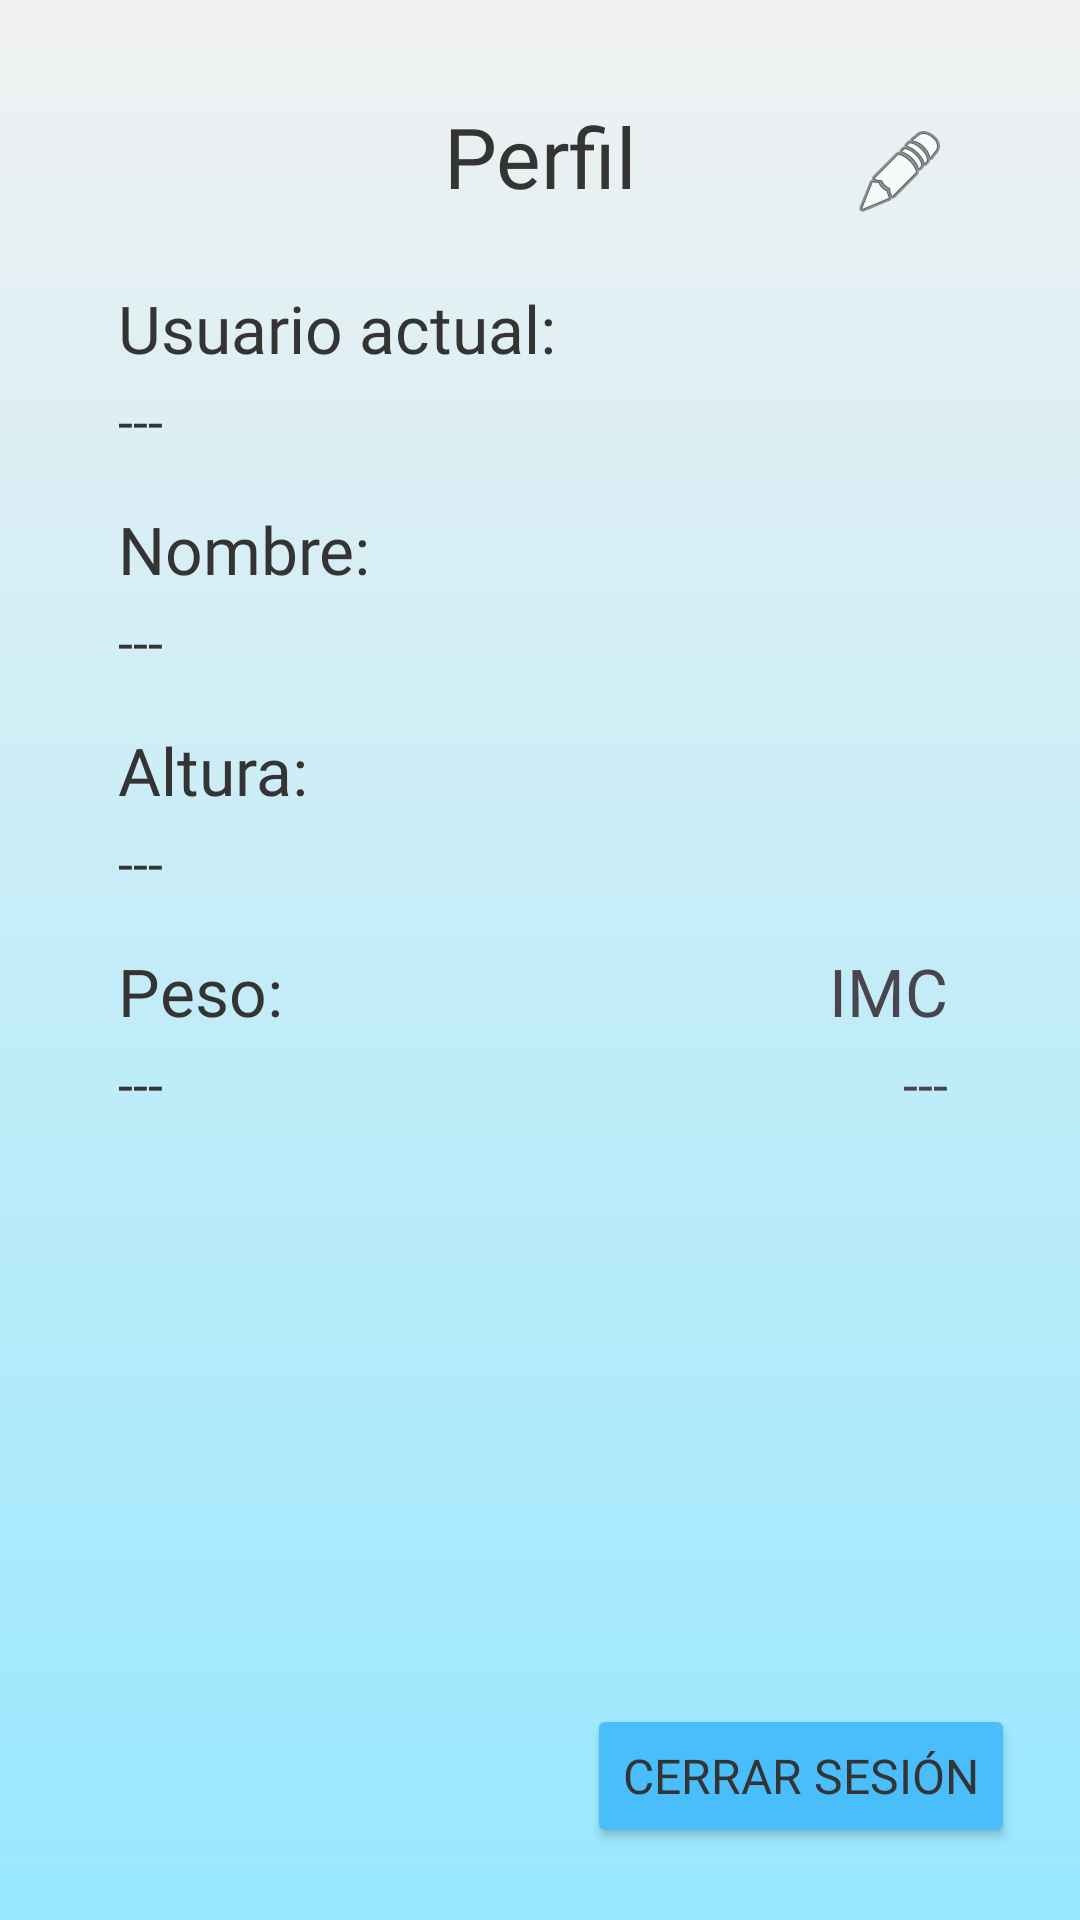

Point at icon controls on the screen. Image size 1080 x 1920, points as (x,y).
edit: (899,171)
